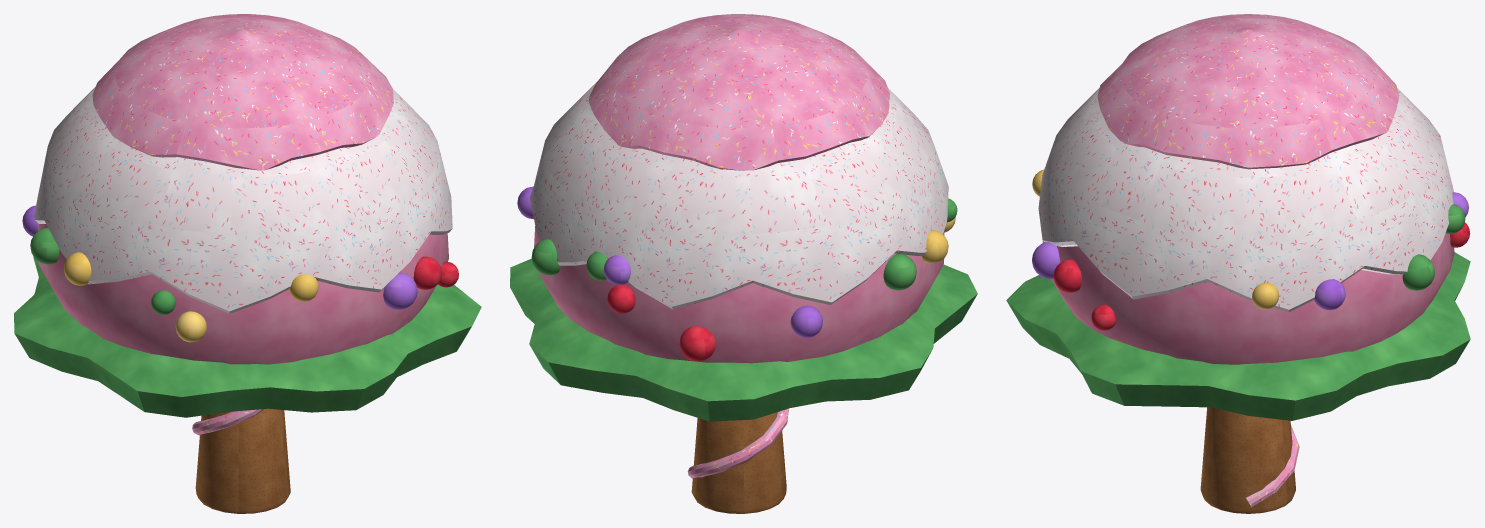
The model's file is GIN_CandyTree.fbx.
3 renders of one model, left to right at view 1: azimuth 30°, elevation 25°; view 2: azimuth 150°, elevation 25°; view 3: azimuth 270°, elevation 25°, orthographic.
Parts seen in each view (by area): view 1: GIN_CandyTree; view 2: GIN_CandyTree; view 3: GIN_CandyTree.
Boxes of the visible parts, <box> form: GIN_CandyTree: <box>14,14,481,513</box>; GIN_CandyTree: <box>510,14,977,513</box>; GIN_CandyTree: <box>1006,14,1470,513</box>.
Size of the model in its own units: 3.17 by 3.45 by 3.11.
